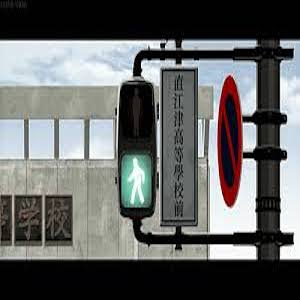green: (122, 156, 154, 207)
